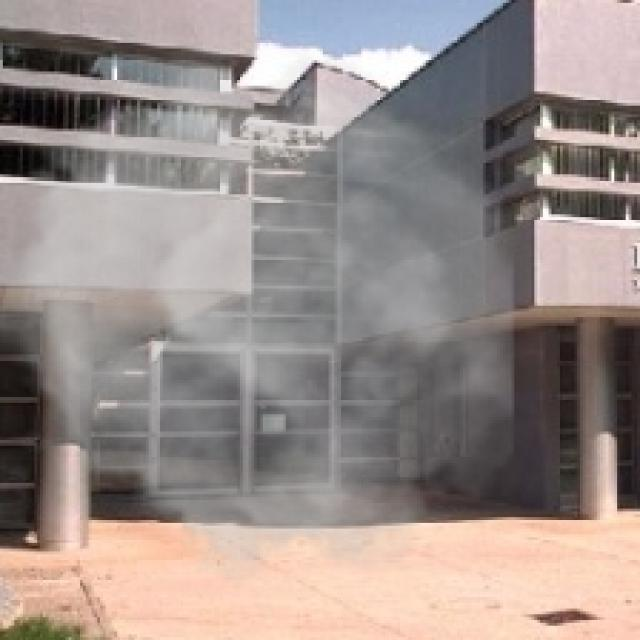Smoke: (0, 42, 515, 589)
